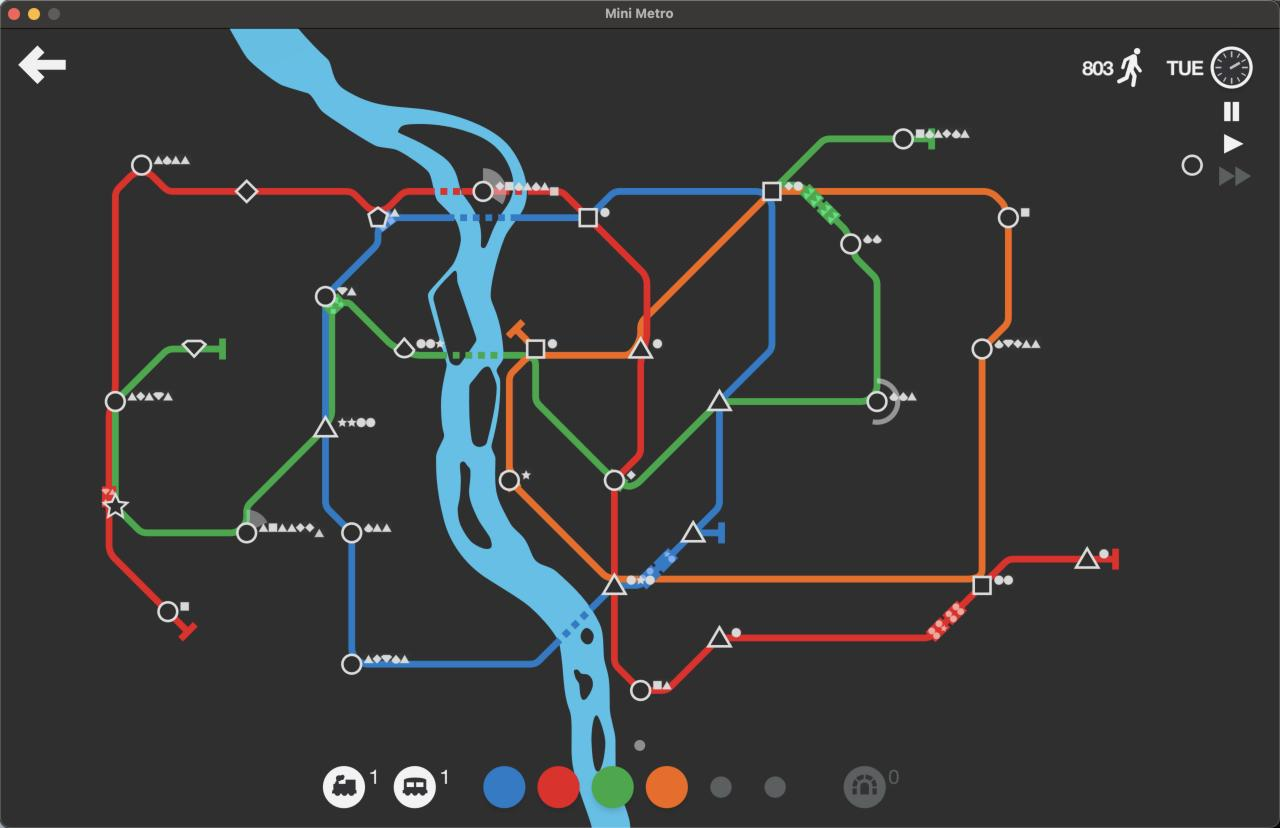CIRCLE: (866, 389, 889, 414), (340, 521, 363, 544), (236, 521, 258, 544), (157, 600, 179, 623), (341, 653, 363, 676), (839, 233, 862, 255), (104, 390, 126, 413), (314, 285, 336, 308), (603, 469, 626, 491), (971, 337, 993, 360), (130, 154, 153, 176), (892, 127, 914, 150), (629, 679, 651, 701), (472, 180, 494, 202), (997, 207, 1019, 229), (498, 469, 520, 491)
DIAMOND: (182, 339, 207, 357)
GEM: (235, 178, 258, 203)
PENTAGON: (367, 207, 390, 229)
SQUARE: (578, 207, 599, 228), (525, 338, 546, 358), (972, 575, 992, 596), (761, 181, 781, 201)
STAR: (103, 496, 130, 518)
TRIANGLE: (680, 519, 707, 545), (706, 388, 733, 413), (1073, 545, 1101, 569), (707, 624, 733, 648), (627, 337, 654, 360), (602, 573, 628, 595), (313, 416, 338, 438)
WEDGE: (393, 336, 415, 359)
